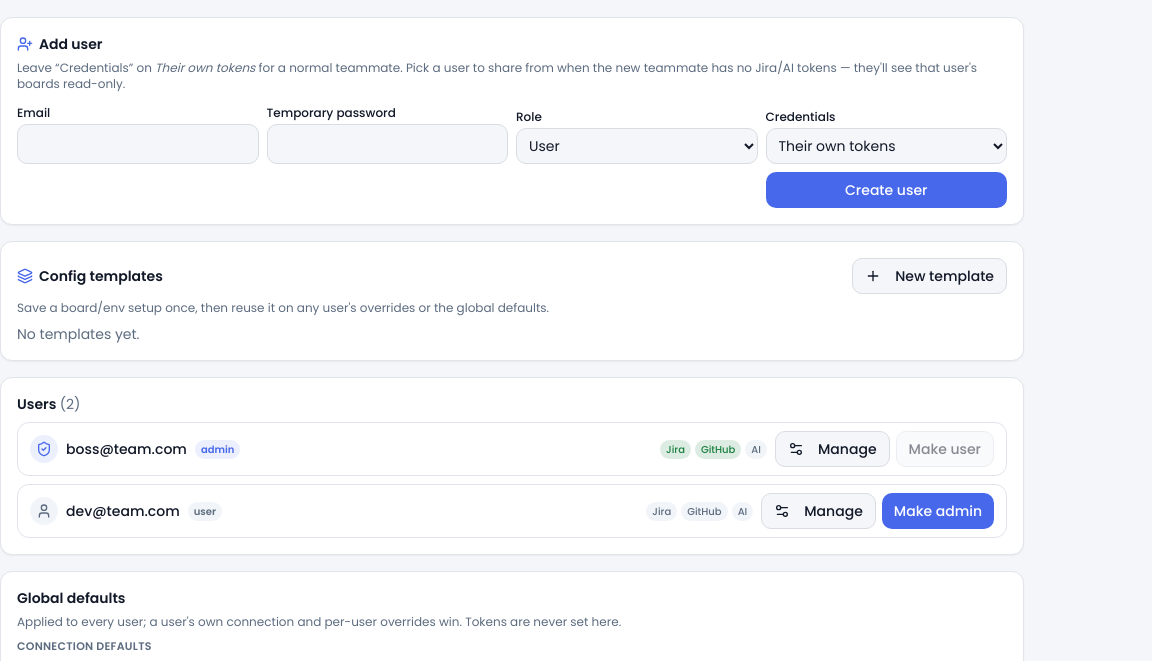
Scenario: Admin user setup — combined save + unsaved guard (v1.52, ADR-063) › keeps Save changes disabled until something changes
The width and height of the screenshot is (1152, 661).
expect the text "dev@team.com" is shown: met, box [66, 501, 180, 521]
Click the button "Manage" in the row of "dev@team.com" at (819, 511), box [761, 493, 876, 529]
(page scrolled)
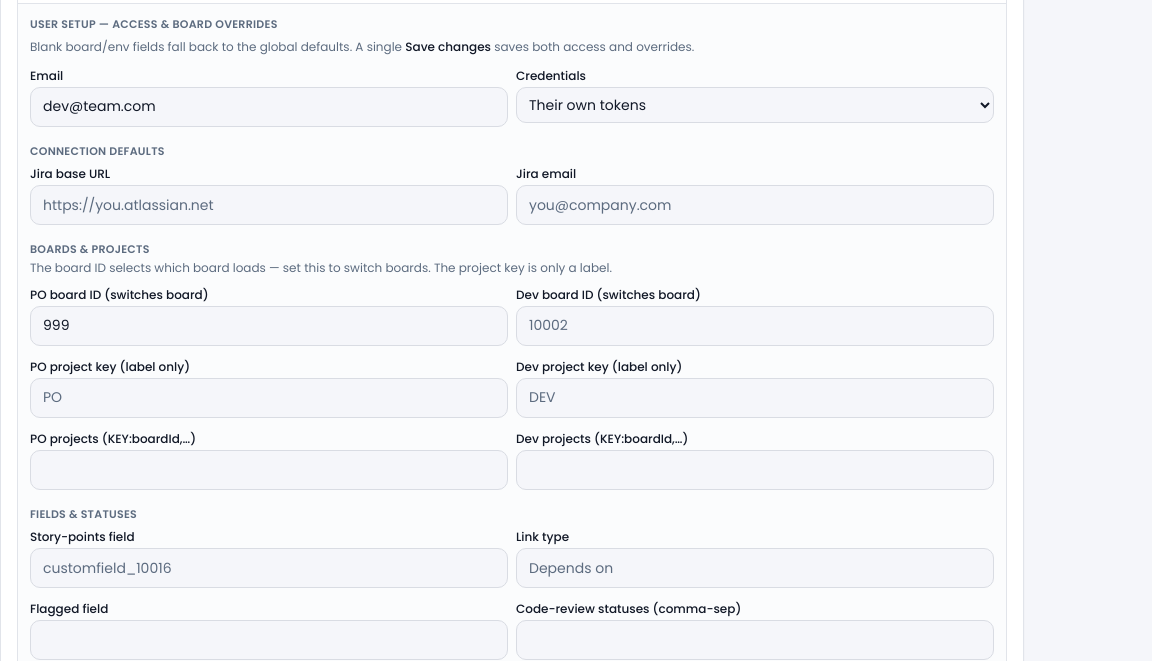
Type "1038" into the field with id "u-u2-JIRA_DEV_BOARD_ID" at (755, 326), box [516, 306, 994, 346]
(page scrolled)
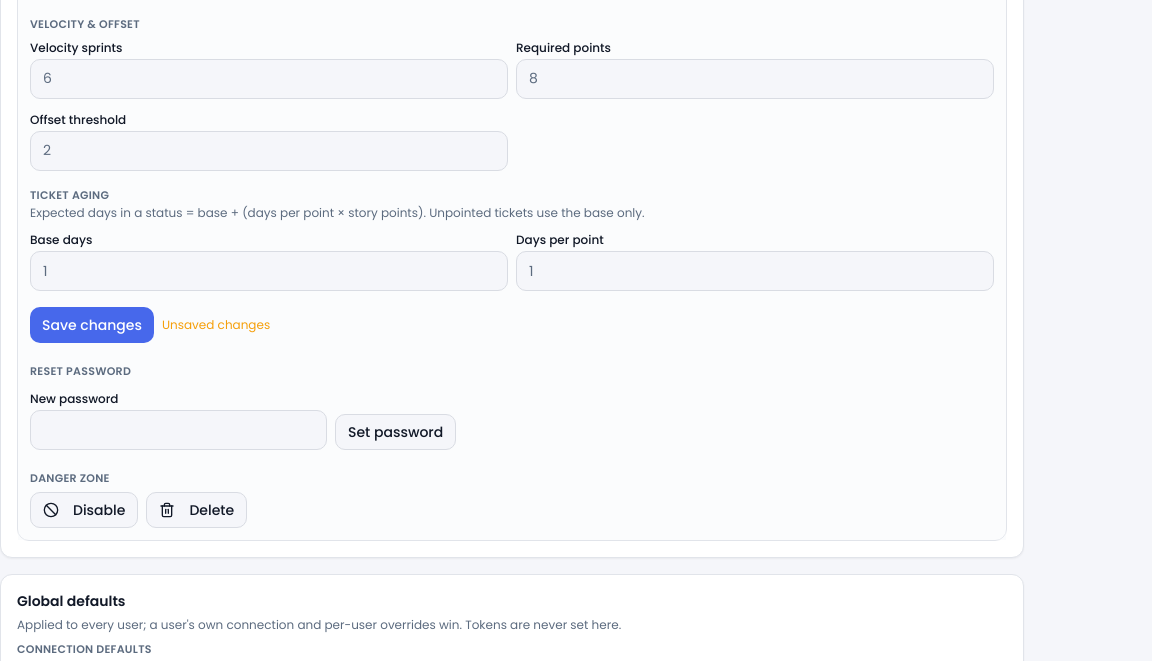
expect the button "Save changes" is enabled: met, box [30, 307, 154, 343]
